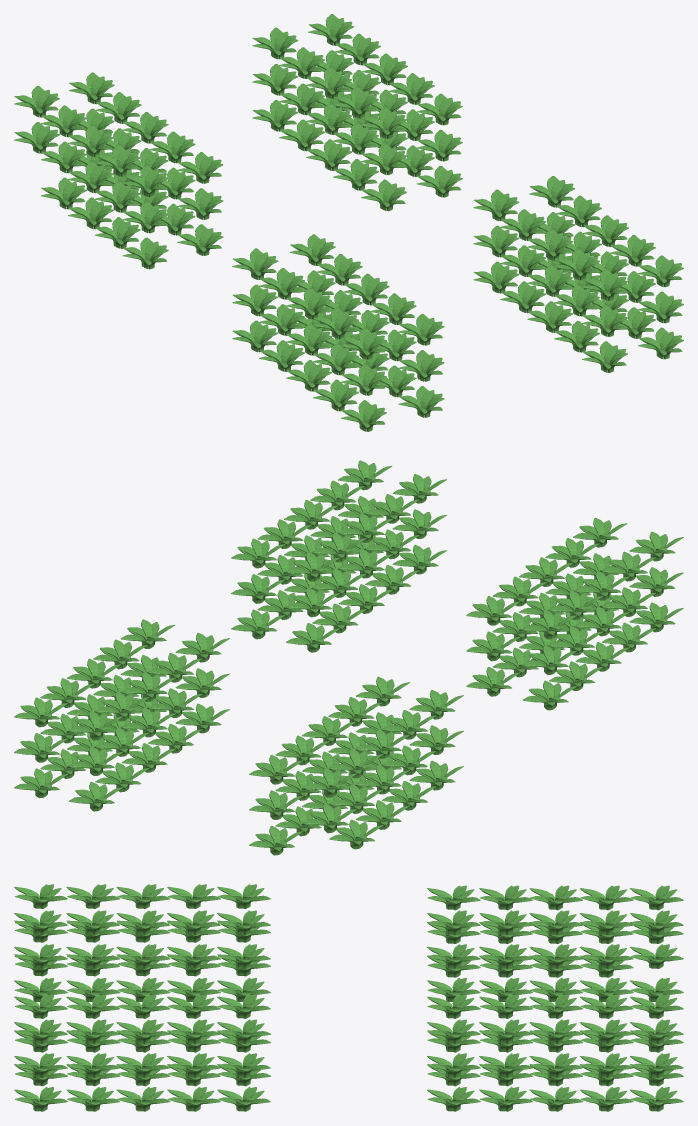
File: Plants.fbx
The picture shows the model from 3 angles, top to bottom: view 1: azimuth 30°, elevation 25°; view 2: azimuth 150°, elevation 25°; view 3: azimuth 270°, elevation 25°; orthographic projection. The views are drawn at different scales.
Visible parts, largest first — view 1: Leaf_Leaf43, Leaf_Leaf45, Leaf_Leaf40, Leaf_Leaf44, Leaf_Leaf41, Leaf_Leaf42, Leaf_Leaf39, Leaf_Leaf13, Leaf_Leaf14, Leaf_Leaf20, Leaf_Leaf10, Leaf_Leaf17 (+9 smaller); view 2: Leaf_Leaf45, Leaf_Leaf43, Leaf_Leaf40, Leaf_Leaf44, Leaf_Leaf42, Leaf_Leaf41, Leaf_Leaf39, Leaf_Leaf18, Leaf_Leaf10, Leaf_Leaf22, Leaf_Leaf14, Leaf_Leaf15 (+9 smaller); view 3: Leaf_Leaf41, Leaf_Leaf42, Leaf_Leaf44, Leaf_Leaf39, Leaf_Leaf43, Leaf_Leaf40, Leaf_Leaf45, Leaf_Leaf21, Leaf_Leaf22, Leaf_Leaf20, Leaf_Leaf23, Leaf_Leaf19 (+9 smaller).
Part boxes in pixels (box(x1,y1,x2,y2)): Leaf_Leaf43: box(473, 189, 627, 372); Leaf_Leaf45: box(232, 248, 386, 431); Leaf_Leaf40: box(252, 27, 406, 211); Leaf_Leaf44: box(290, 234, 444, 417); Leaf_Leaf41: box(308, 14, 462, 197); Leaf_Leaf42: box(529, 176, 683, 359); Leaf_Leaf39: box(69, 72, 223, 255); Leaf_Leaf13: box(122, 237, 168, 269); Leaf_Leaf14: box(122, 201, 168, 233); Leaf_Leaf20: box(95, 145, 140, 176); Leaf_Leaf10: box(41, 177, 86, 209); Leaf_Leaf17: box(41, 141, 86, 173); Leaf_Leaf45: box(522, 531, 683, 710); Leaf_Leaf43: box(286, 474, 446, 652); Leaf_Leaf40: box(69, 632, 229, 811); Leaf_Leaf44: box(466, 518, 627, 696); Leaf_Leaf42: box(231, 460, 391, 639); Leaf_Leaf41: box(14, 619, 174, 798); Leaf_Leaf39: box(249, 676, 410, 855); Leaf_Leaf18: box(303, 803, 356, 833); Leaf_Leaf10: box(329, 819, 383, 849); Leaf_Leaf22: box(329, 748, 383, 778); Leaf_Leaf14: box(409, 725, 463, 754); Leaf_Leaf15: box(382, 745, 436, 775); Leaf_Leaf41: box(427, 1019, 683, 1111); Leaf_Leaf42: box(14, 1019, 270, 1111); Leaf_Leaf44: box(14, 910, 270, 1001); Leaf_Leaf39: box(427, 910, 683, 1001); Leaf_Leaf43: box(14, 994, 270, 1086); Leaf_Leaf40: box(427, 994, 683, 1086); Leaf_Leaf45: box(14, 884, 270, 976); Leaf_Leaf21: box(529, 885, 582, 910); Leaf_Leaf22: box(580, 885, 633, 910); Leaf_Leaf20: box(479, 885, 532, 910); Leaf_Leaf23: box(630, 885, 683, 910); Leaf_Leaf19: box(427, 885, 480, 910).
Size of the model in its own units: 13.65 by 3.51 by 25.03.
